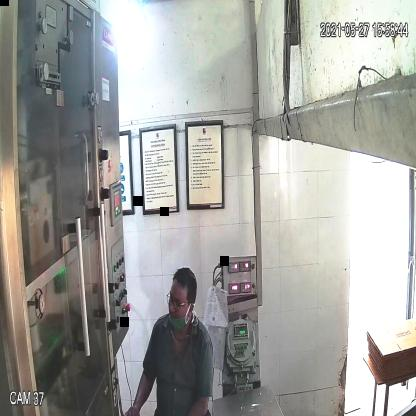goggles: (164, 288, 195, 312)
